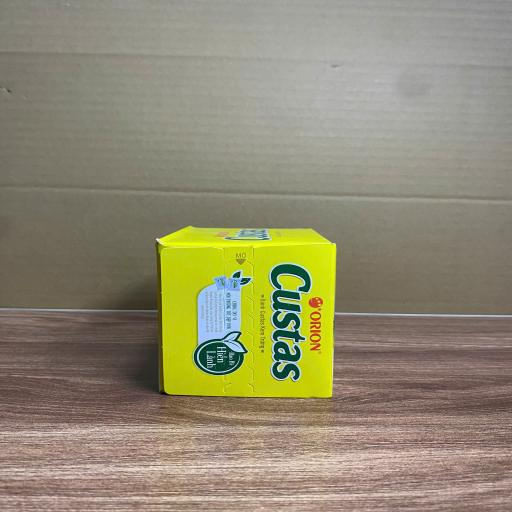custas: (155, 226, 336, 398)
